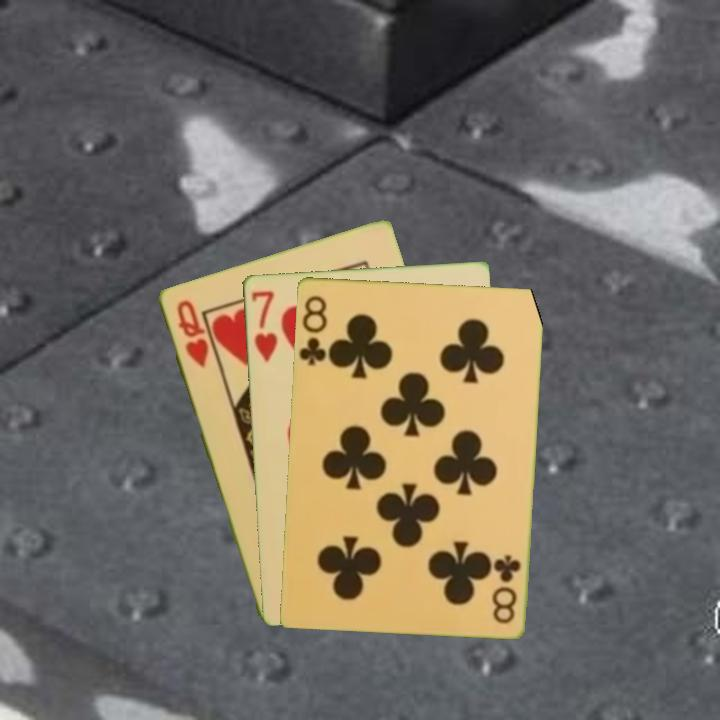7h: (247, 286, 280, 364)
8c: (296, 292, 332, 368), (489, 550, 523, 627)
Qh: (173, 296, 211, 370)
